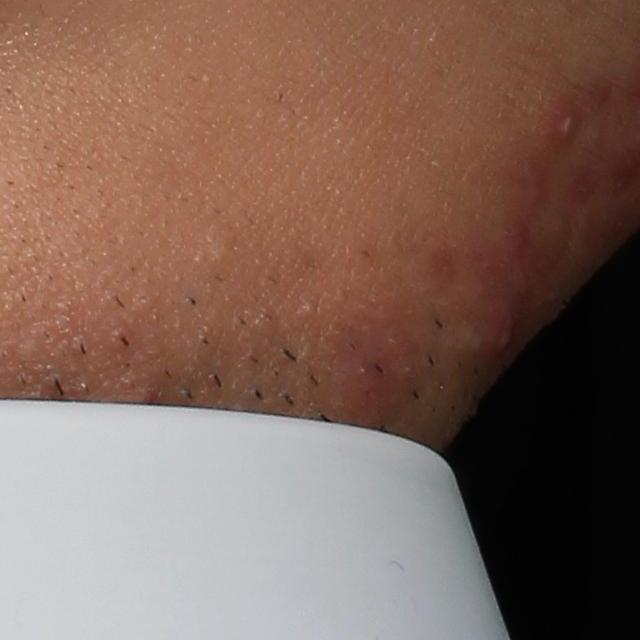comedo: (204, 242, 234, 271)
pustule: (549, 101, 589, 145)
